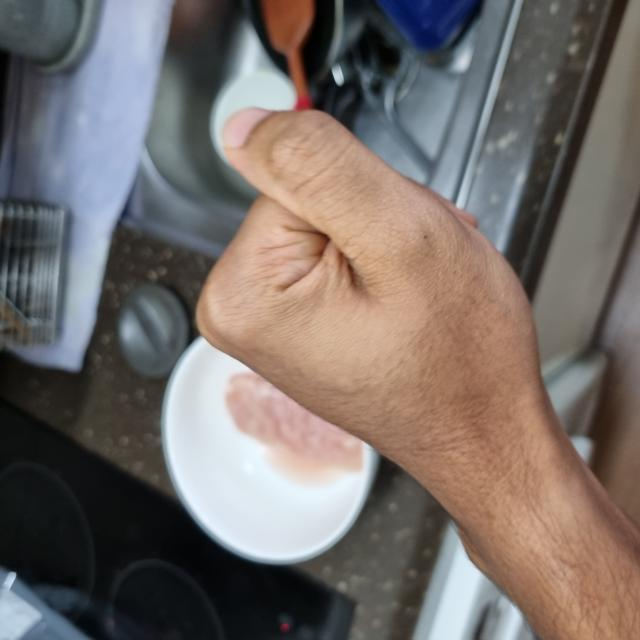Rock: (152, 200, 533, 538)
